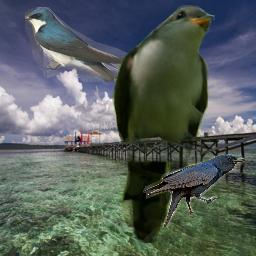Crow: (143, 154, 245, 228)
Cuckoo: (112, 5, 215, 243)
Swallow: (25, 7, 129, 82)
